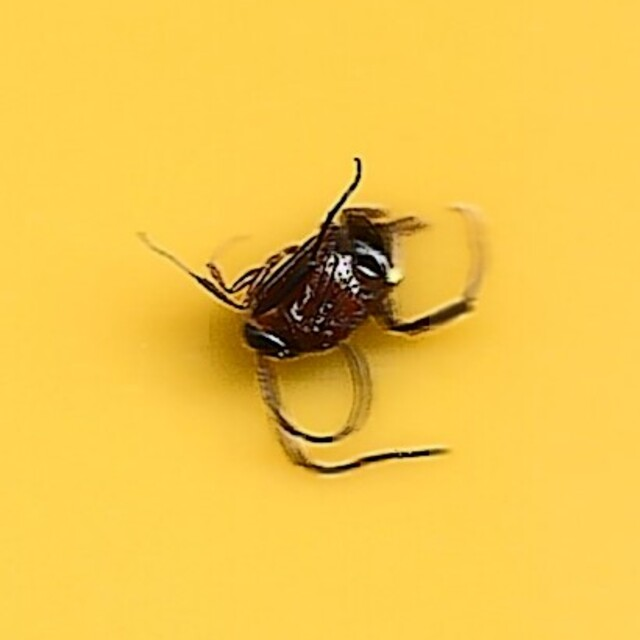Hymenoptera: (156, 147, 484, 493)
